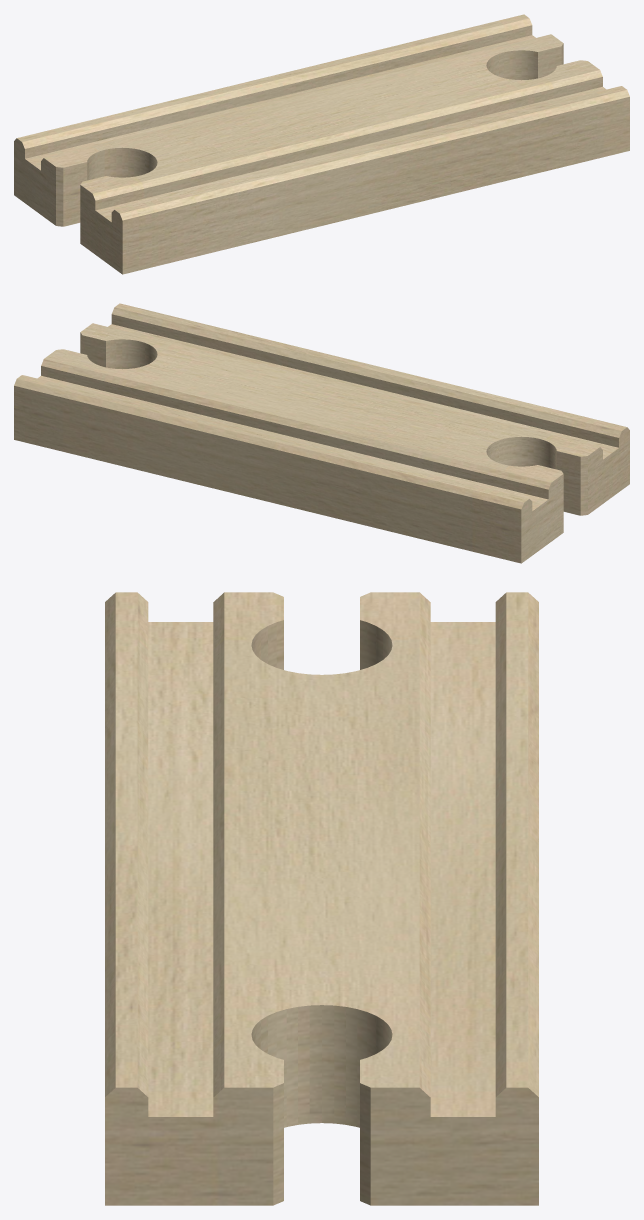
3 views of the same model, one above another, from view 1: azimuth 30°, elevation 25°; view 2: azimuth 150°, elevation 25°; view 3: azimuth 270°, elevation 25° (orthographic). The views are drawn at different scales.
Visible parts, largest first — view 1: SketchUp; view 2: SketchUp; view 3: SketchUp.
Part boxes in pixels (left/top/right/bottom): SketchUp: left=14, top=14, right=629, bottom=274; SketchUp: left=14, top=303, right=629, bottom=563; SketchUp: left=105, top=592, right=538, bottom=1205.
Size of the model in its own units: 4.25 by 1.57 by 0.4724.
